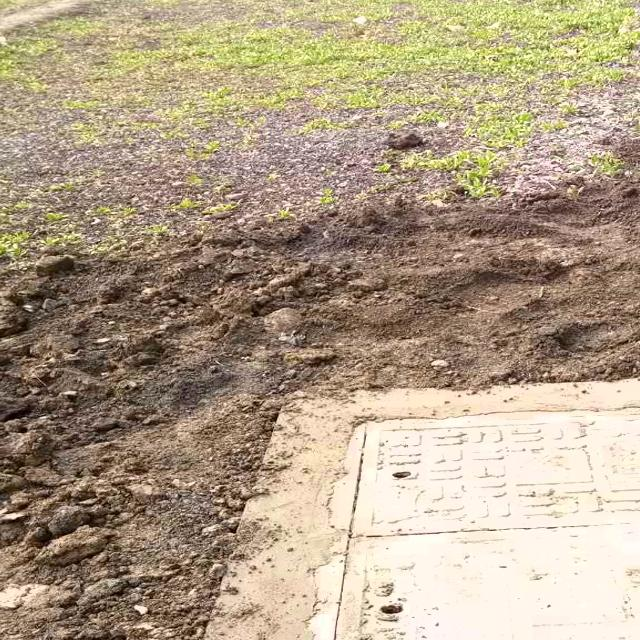good: (336, 402, 640, 640)
